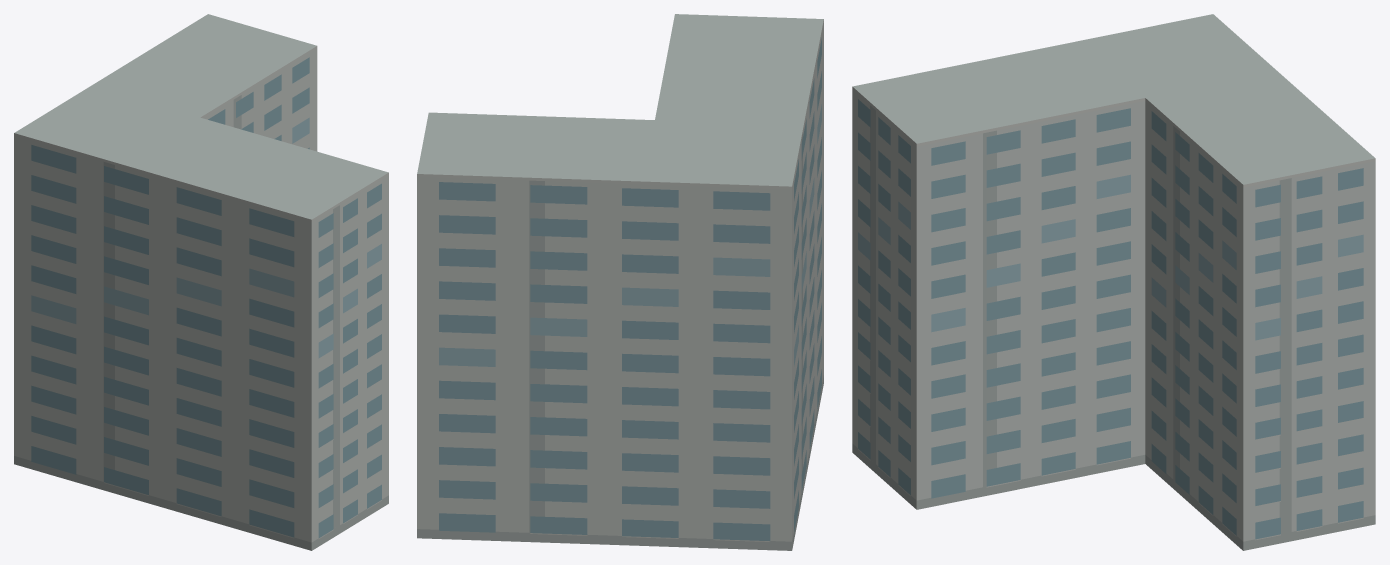
Rendered from residential-ded74543-75f4-4d05-9a81-f493d36702bd.glb.
3 views of the same model, side by side, from view 1: azimuth 30°, elevation 25°; view 2: azimuth 150°, elevation 25°; view 3: azimuth 270°, elevation 25° (orthographic). The views are drawn at different scales.
Visible parts, largest first — view 1: residential-ded74543-75f4-4d05-9a81-f493d36702bd.tmp; view 2: residential-ded74543-75f4-4d05-9a81-f493d36702bd.tmp; view 3: residential-ded74543-75f4-4d05-9a81-f493d36702bd.tmp.
Boxes of the visible parts, x1=… form: residential-ded74543-75f4-4d05-9a81-f493d36702bd.tmp: x1=14, y1=14, x2=388, y2=550; residential-ded74543-75f4-4d05-9a81-f493d36702bd.tmp: x1=417, y1=14, x2=823, y2=550; residential-ded74543-75f4-4d05-9a81-f493d36702bd.tmp: x1=852, y1=14, x2=1375, y2=550.
Size of the model in its own units: 31.04 by 31 by 40.16.
